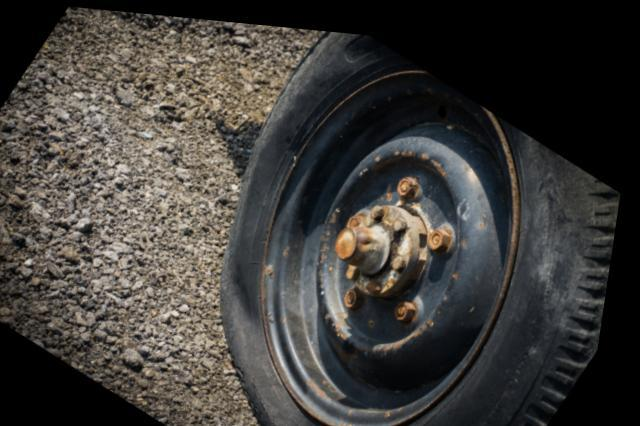tire flat: (228, 25, 625, 426)
